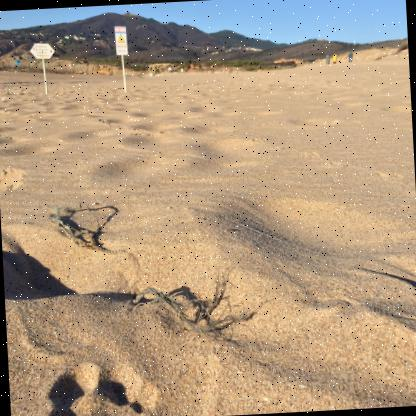Rope - strings: (132, 278, 246, 333), (49, 201, 128, 254)
